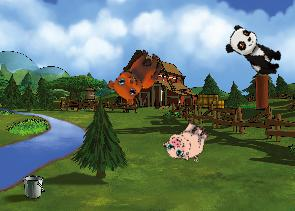bear: (103, 40, 167, 110)
panda: (221, 22, 288, 80)
pig: (160, 113, 214, 169)
